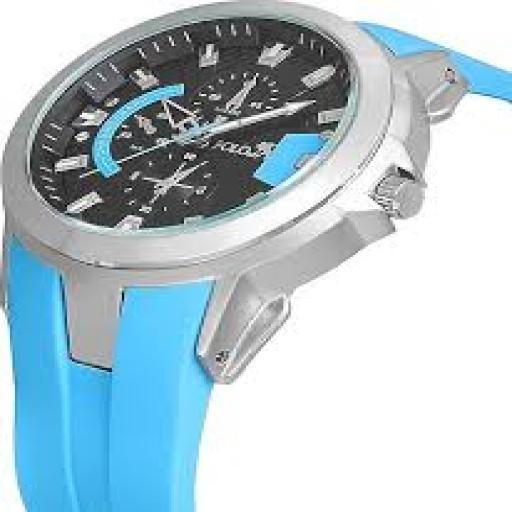KolSaati: (2, 3, 510, 512)
